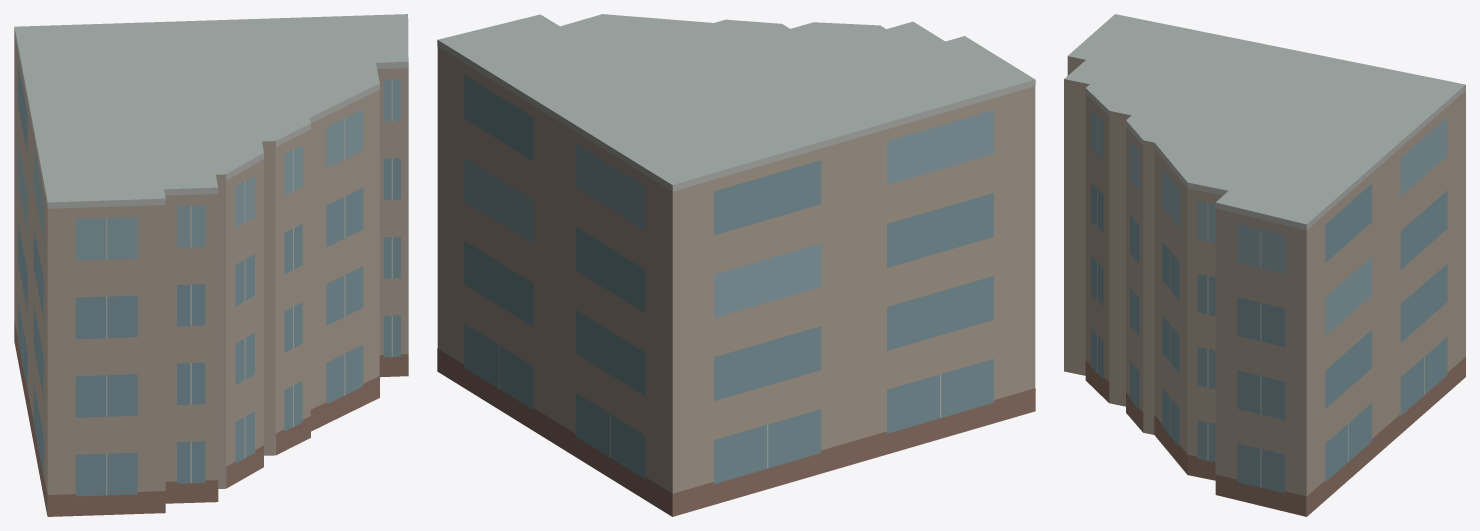
The model's file is survey-upis-32906363.glb.
3 views of the same model, side by side, from view 1: azimuth 30°, elevation 25°; view 2: azimuth 150°, elevation 25°; view 3: azimuth 270°, elevation 25° (orthographic). The views are drawn at different scales.
Visible parts, largest first — view 1: survey-upis-32906363.tmp; view 2: survey-upis-32906363.tmp; view 3: survey-upis-32906363.tmp.
Part boxes in pixels (x1=…): survey-upis-32906363.tmp: x1=14, y1=14, x2=408, y2=516; survey-upis-32906363.tmp: x1=437, y1=14, x2=1035, y2=516; survey-upis-32906363.tmp: x1=1064, y1=14, x2=1465, y2=516.
Bounding box in the file's own units: 18.83 × 12.2 × 15.2.
